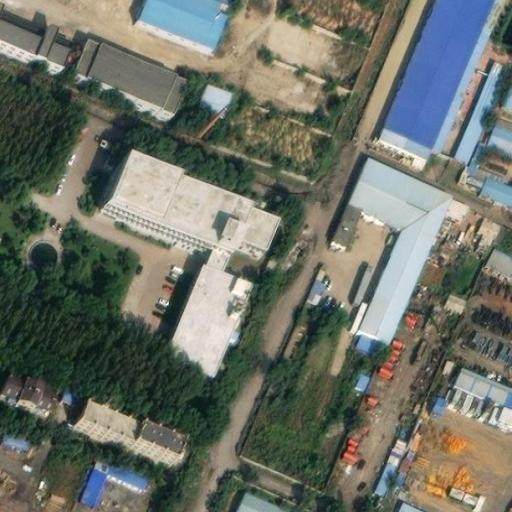building: (109, 141, 282, 371), (330, 149, 454, 352), (73, 31, 189, 108), (76, 399, 182, 456), (455, 53, 510, 155), (139, 0, 231, 43), (0, 10, 74, 58), (80, 449, 147, 500), (445, 377, 512, 422), (1, 360, 61, 406), (453, 359, 512, 399), (234, 482, 309, 512), (460, 155, 512, 198), (373, 431, 408, 488), (198, 75, 233, 106), (395, 493, 448, 512), (487, 110, 512, 148), (485, 240, 512, 273), (440, 286, 469, 314), (0, 427, 31, 453), (302, 273, 327, 305), (55, 381, 82, 407), (348, 367, 372, 393)
